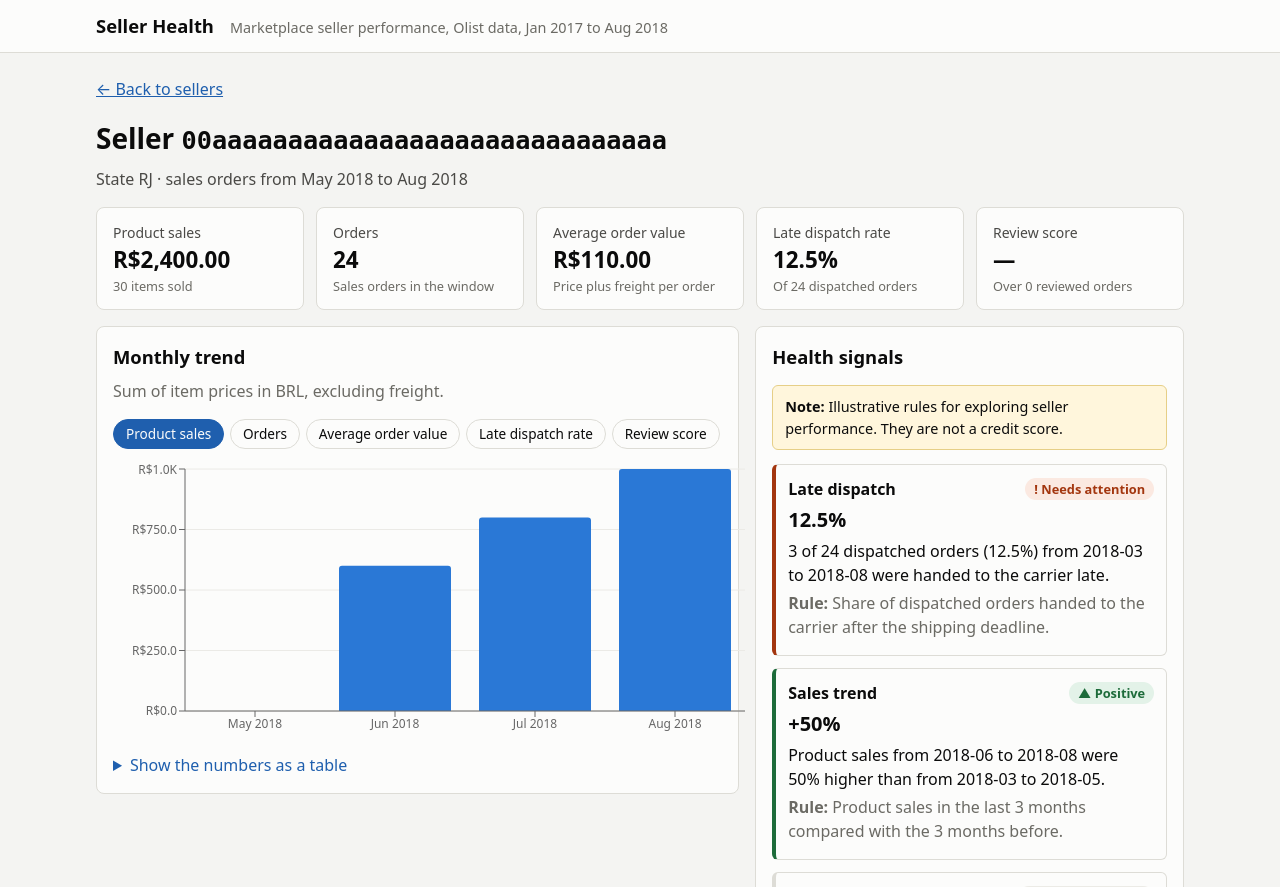
Test: Seller detail › says when a measure has no data in any month
This screenshot has width=1280, height=887.
Step 1. Click the radio button labelled "Review score" → (666, 434), box [612,419,720,449]
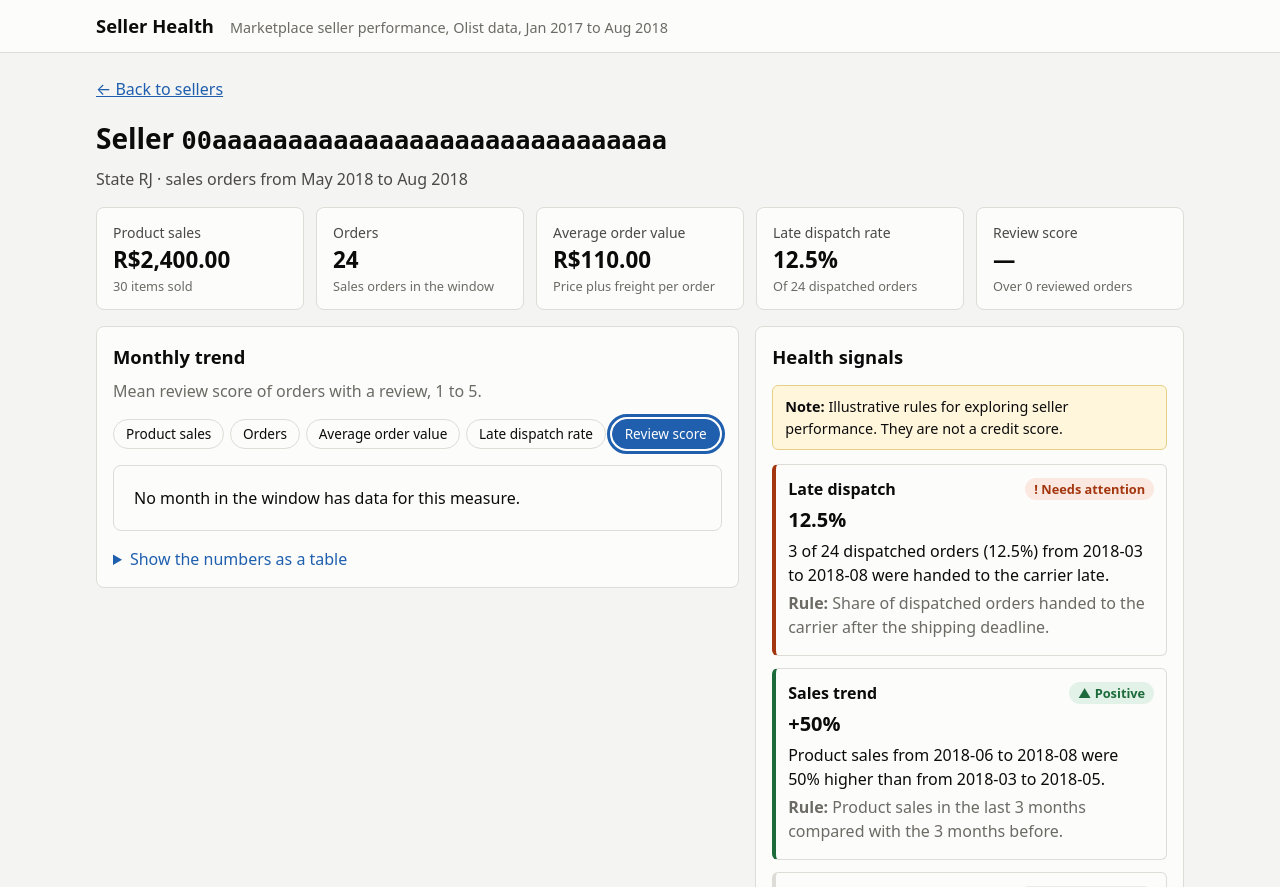
Expected: the text "No month in the window has data for this measure." is shown, [113,465,722,531]
Expected: the picture is gone
